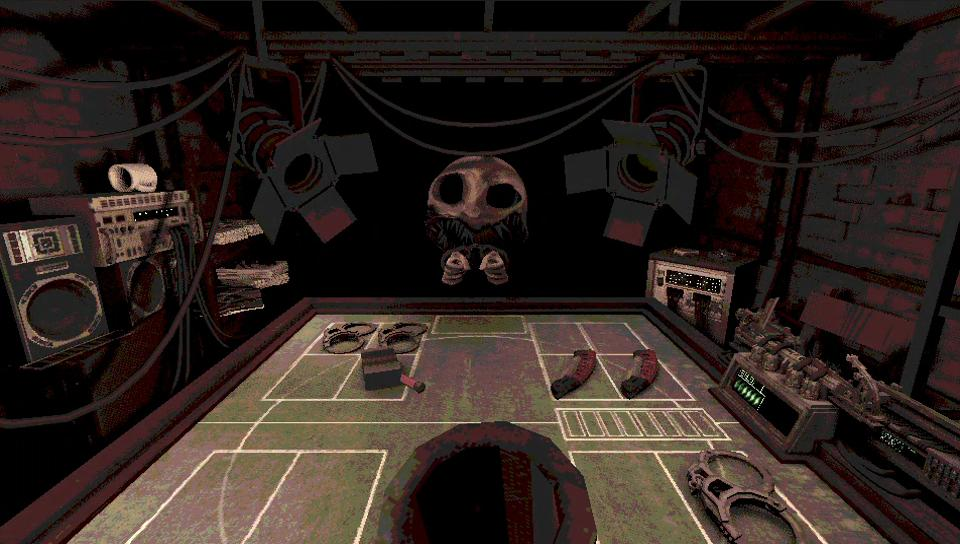ally: (54, 417, 903, 543)
cigar: (362, 347, 406, 391)
doubledamage: (550, 348, 596, 400), (617, 349, 661, 398)
emptyspace: (122, 449, 292, 543), (577, 447, 721, 543), (237, 453, 385, 543), (263, 349, 361, 402), (582, 322, 650, 352), (532, 322, 591, 353)
enemyspace: (201, 307, 741, 416)
handcuff: (683, 448, 802, 543), (377, 319, 429, 353), (323, 322, 376, 353)
